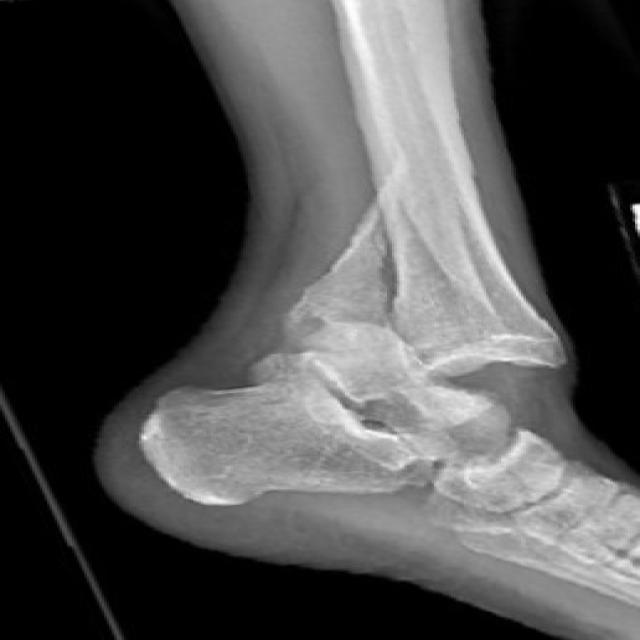Fracture: (131, 282, 608, 548)
